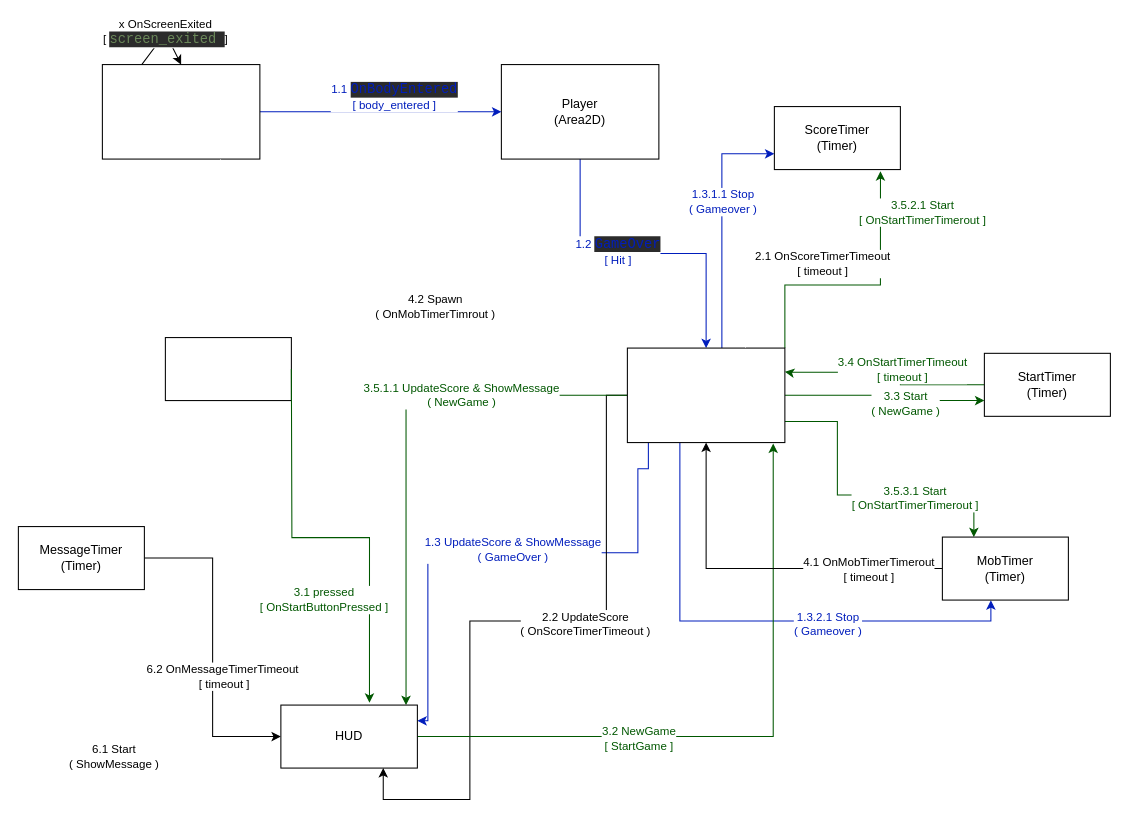
Some shapes in this 1129 by 827 pixel diagram are drawn without their labels. Here are the shapes that lost their labels. From the top down, the centre of each, then its label:
(x=180, y=111): Enemy (RigidBody2D )
(x=227, y=369): StartButton (Button)
(x=705, y=395): Main (Node2D)
